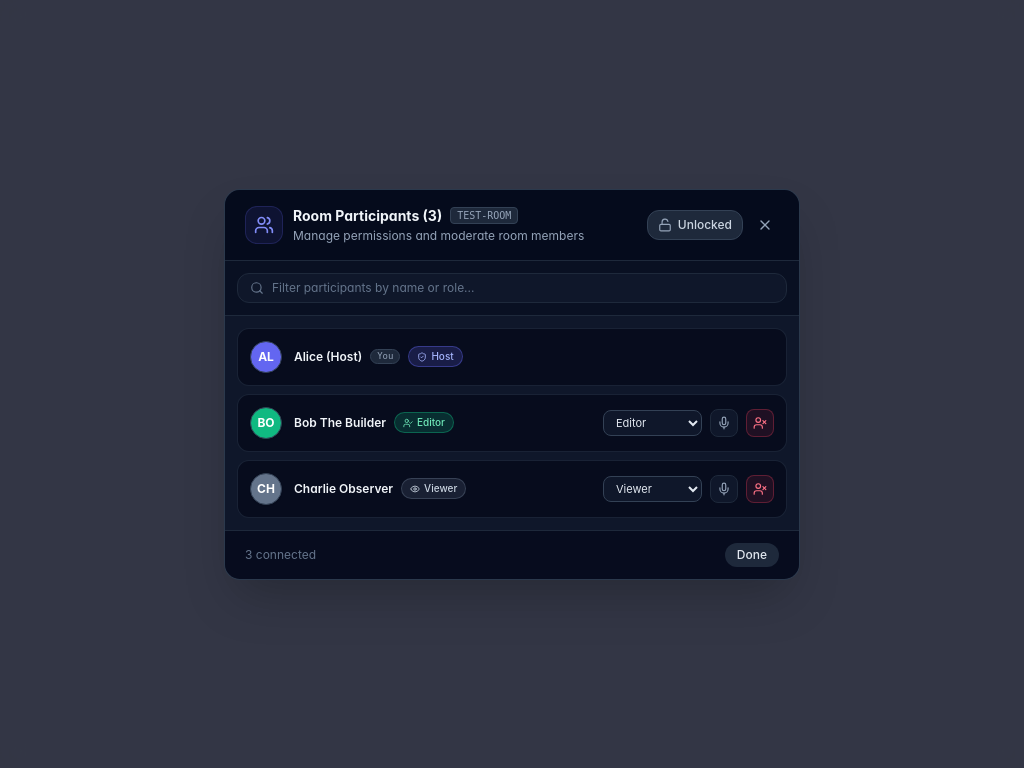
Test case: ParticipantsModal Component › filters participants by search query
Type "Charlie" into the field with test id "participants-search-input" at (523, 288), box [272,280,774,296]
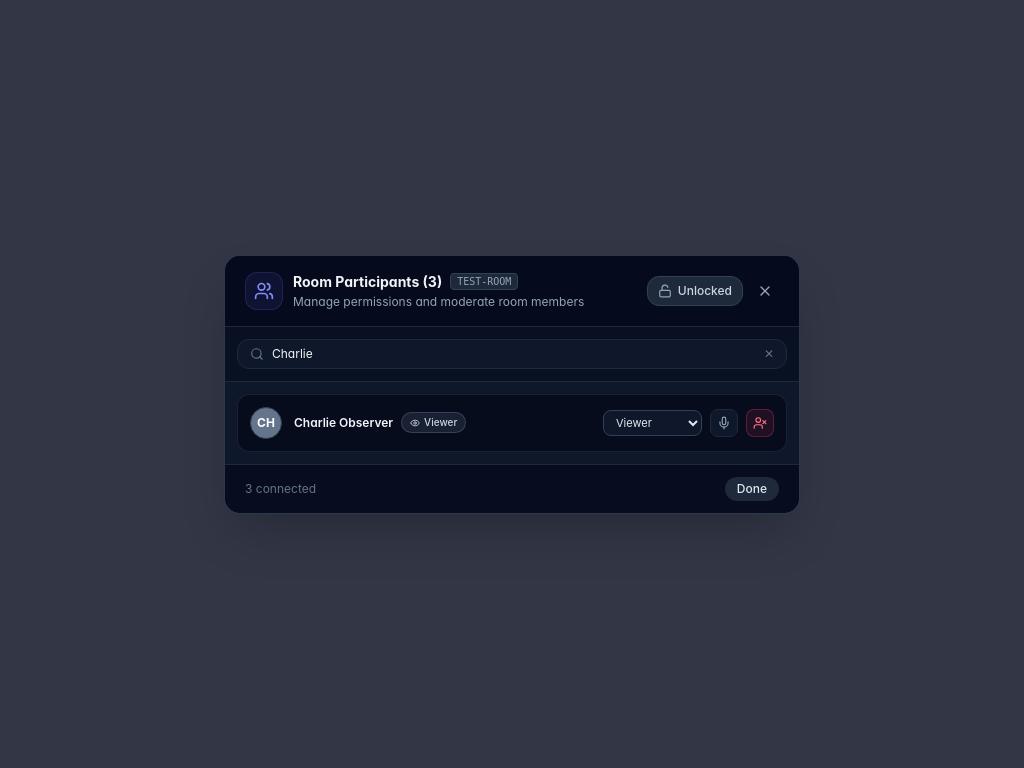
Expected: the text "Charlie Observer" is shown, [294,414,393,430]
Expected: the text "Bob The Builder" is gone
